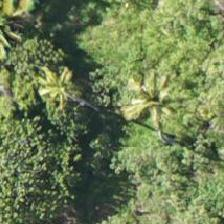coconut_tree: (14, 45, 104, 135)
